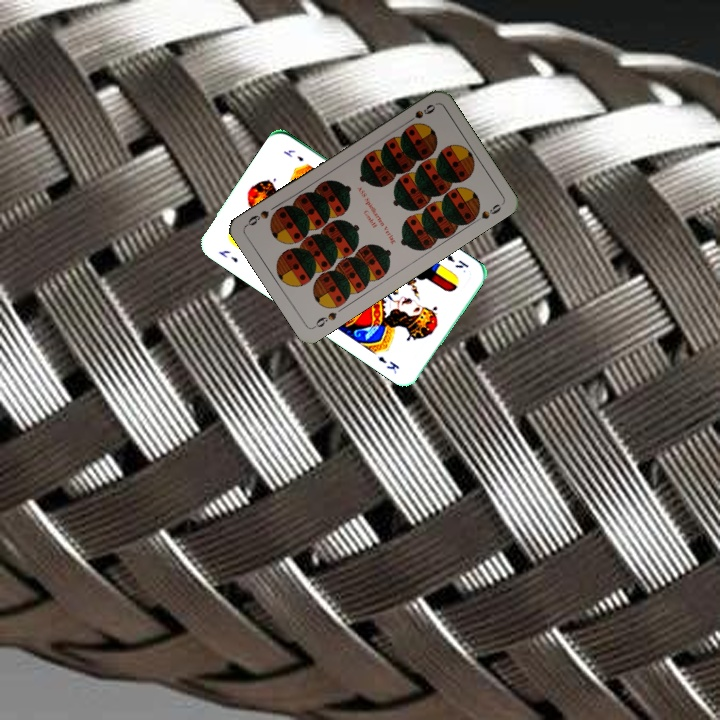EK: (443, 251, 471, 271), (215, 246, 241, 265)
S9: (401, 100, 438, 127), (309, 308, 339, 331)
